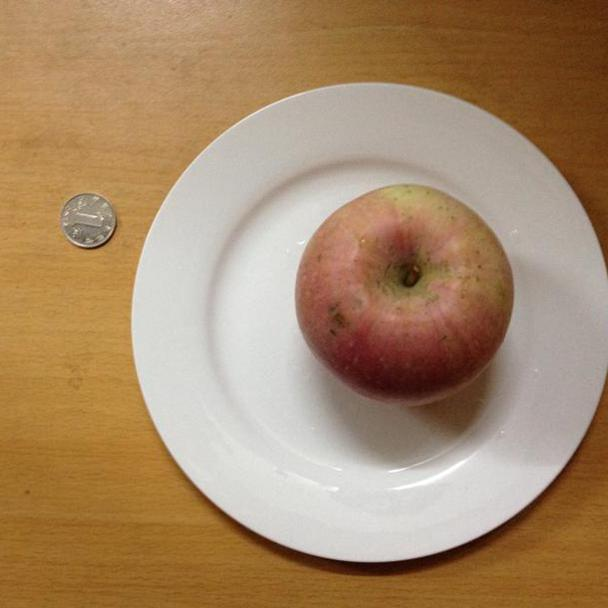apple: (294, 182, 524, 406)
